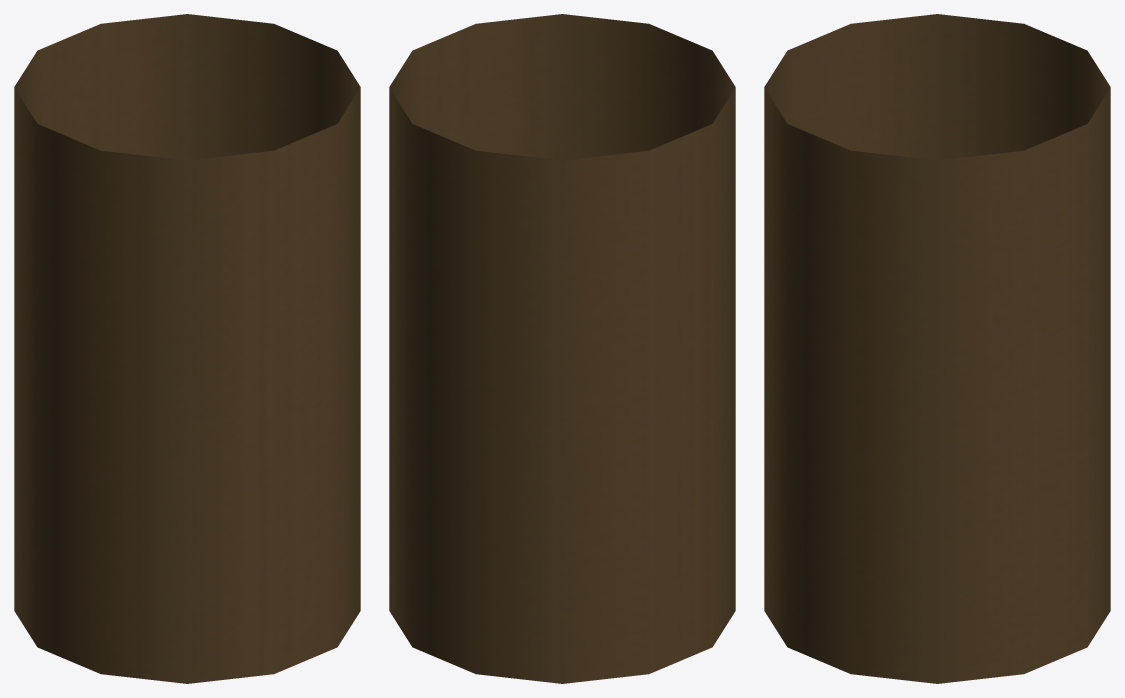
The model's file is Can light surface mount.fbx.
3 renders of one model, left to right at view 1: azimuth 30°, elevation 25°; view 2: azimuth 150°, elevation 25°; view 3: azimuth 270°, elevation 25°, orthographic.
Visible parts, largest first — view 1: Can_light_surface01; view 2: Can_light_surface01; view 3: Can_light_surface01.
Boxes of the visible parts, x1,y1,x2,y2 form: Can_light_surface01: [14, 14, 360, 683]; Can_light_surface01: [389, 14, 735, 683]; Can_light_surface01: [764, 14, 1110, 683].
Bounding box in the file's own units: 0.1524 × 0.254 × 0.1524.
